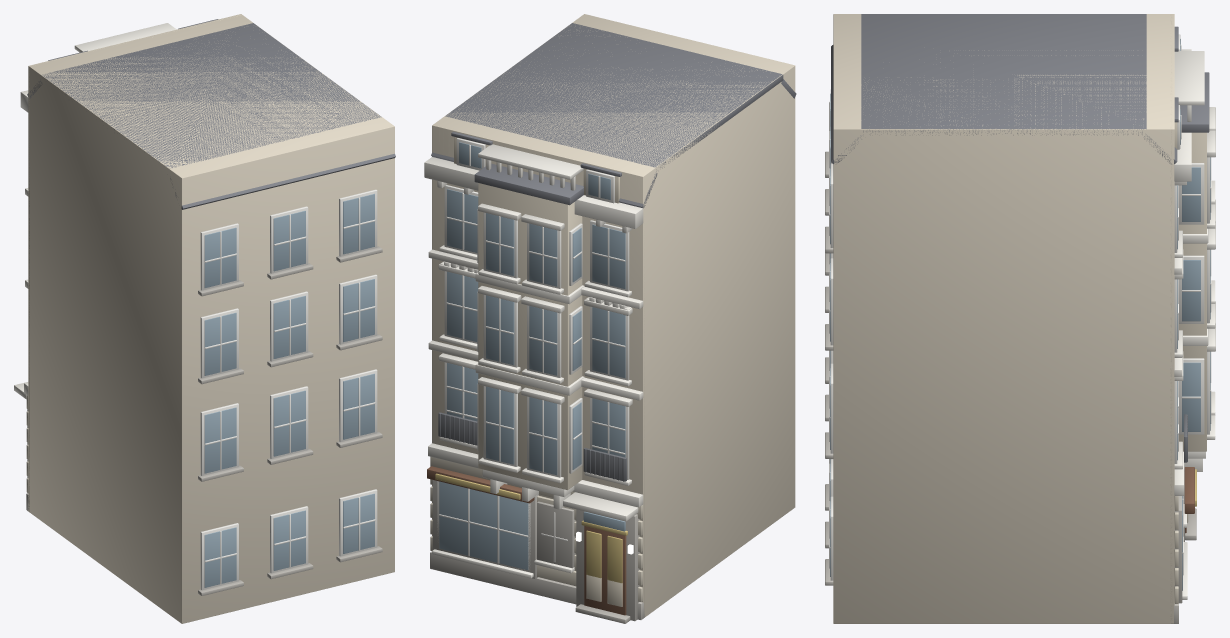
The model's file is th22_altbau_modul.glb.
3 renders of one model, left to right at view 1: azimuth 30°, elevation 25°; view 2: azimuth 150°, elevation 25°; view 3: azimuth 270°, elevation 25°, orthographic. The views are drawn at different scales.
Visible parts, largest first — view 1: Cube, Cube.254, Cube.208, Cube.213, Cube.218, Cube.228, Cube.223, Cube.233, Cube.198, Cube.243, Cube.193, Cube.238 (+17 smaller); view 2: Cube, Cube.254, Cube.050, Cube.043, Cube.020, Cube.002, Cube.035, Cube.111, Cube.130, Cube.021, Cube.056, Cube.062 (+38 smaller); view 3: Cube, Cube.254, Cube.050, Cube.121, Cube.001, Cube.071, Cube.089, Cube.111, Cube.107, Cube.020, Cube.070, Cube.041 (+1 smaller).
Boxes of the visible parts, x1,y1,x2,y2 form: Cube: [28, 14, 394, 623]; Cube.254: [41, 23, 381, 168]; Cube.208: [204, 407, 236, 473]; Cube.213: [273, 390, 305, 456]; Cube.218: [343, 373, 374, 439]; Cube.228: [273, 295, 305, 358]; Cube.223: [204, 312, 236, 375]; Cube.233: [343, 279, 374, 342]; Cube.198: [273, 510, 305, 570]; Cube.243: [273, 210, 305, 271]; Cube.193: [204, 527, 236, 587]; Cube.238: [204, 227, 236, 287]; Cube: [432, 14, 795, 616]; Cube.254: [445, 23, 783, 171]; Cube.050: [478, 183, 582, 490]; Cube.043: [439, 481, 528, 570]; Cube.020: [424, 157, 643, 228]; Cube.002: [430, 551, 644, 619]; Cube.035: [537, 501, 575, 568]; Cube.111: [474, 163, 583, 205]; Cube.130: [592, 307, 625, 377]; Cube.021: [576, 509, 639, 621]; Cube.056: [529, 397, 557, 475]; Cube.062: [486, 386, 514, 464]; Cube: [833, 14, 1174, 623]; Cube.254: [861, 14, 1146, 135]; Cube.050: [1179, 132, 1206, 451]; Cube.121: [1174, 51, 1204, 105]; Cube.001: [1170, 14, 1174, 620]; Cube.071: [1182, 362, 1200, 431]; Cube.089: [1182, 260, 1200, 321]; Cube.111: [1180, 72, 1209, 132]; Cube.107: [1182, 167, 1200, 221]; Cube.020: [1174, 49, 1191, 181]; Cube.070: [1179, 358, 1204, 434]; Cube.041: [1174, 496, 1182, 603].
Size of the model in its own units: 8 by 16 by 11.45.
